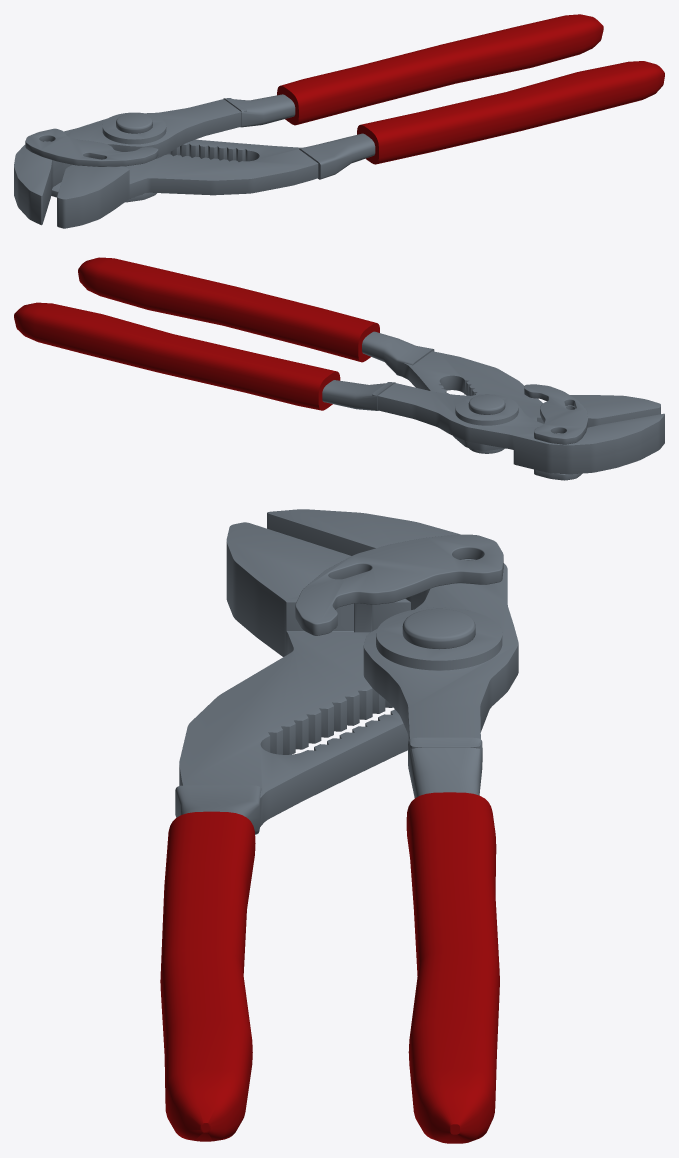
3 renders of one model, top to bottom at view 1: azimuth 30°, elevation 25°; view 2: azimuth 150°, elevation 25°; view 3: azimuth 270°, elevation 25°, orthographic. The views are drawn at different scales.
Visible parts, largest first — view 1: part_002_Moving_jaw_and_lower_arm, part_000_Upper_plastic_grip, part_003_Lower_plastic_grip, part_004_Fixed_jaw_and_upper_arm, part_006_Box_joint_slider, part_007_Adjustment_button; view 2: part_000_Upper_plastic_grip, part_004_Fixed_jaw_and_upper_arm, part_003_Lower_plastic_grip, part_002_Moving_jaw_and_lower_arm, part_006_Box_joint_slider, part_007_Adjustment_button; view 3: part_002_Moving_jaw_and_lower_arm, part_000_Upper_plastic_grip, part_003_Lower_plastic_grip, part_004_Fixed_jaw_and_upper_arm, part_006_Box_joint_slider, part_007_Adjustment_button.
Boxes of the visible parts, x1=… form: part_002_Moving_jaw_and_lower_arm: x1=57, y1=133, x2=375, y2=228; part_000_Upper_plastic_grip: x1=277, y1=14, x2=603, y2=125; part_003_Lower_plastic_grip: x1=357, y1=61, x2=664, y2=164; part_004_Fixed_jaw_and_upper_arm: x1=14, y1=94, x2=295, y2=225; part_006_Box_joint_slider: x1=25, y1=128, x2=158, y2=202; part_007_Adjustment_button: x1=116, y1=113, x2=152, y2=133; part_000_Upper_plastic_grip: x1=14, y1=302, x2=340, y2=410; part_004_Fixed_jaw_and_upper_arm: x1=322, y1=380, x2=664, y2=474; part_003_Lower_plastic_grip: x1=78, y1=257, x2=379, y2=362; part_002_Moving_jaw_and_lower_arm: x1=362, y1=331, x2=660, y2=450; part_006_Box_joint_slider: x1=524, y1=384, x2=587, y2=480; part_007_Adjustment_button: x1=468, y1=394, x2=505, y2=414; part_002_Moving_jaw_and_lower_arm: x1=175, y1=522, x2=410, y2=834; part_000_Upper_plastic_grip: x1=406, y1=792, x2=499, y2=1143; part_003_Lower_plastic_grip: x1=160, y1=811, x2=255, y2=1141; part_004_Fixed_jaw_and_upper_arm: x1=267, y1=509, x2=518, y2=798; part_006_Box_joint_slider: x1=295, y1=534, x2=503, y2=635; part_007_Adjustment_button: x1=402, y1=608, x2=475, y2=649.
Size of the model in its own units: 0.1839 by 0.0134 by 0.0471.
